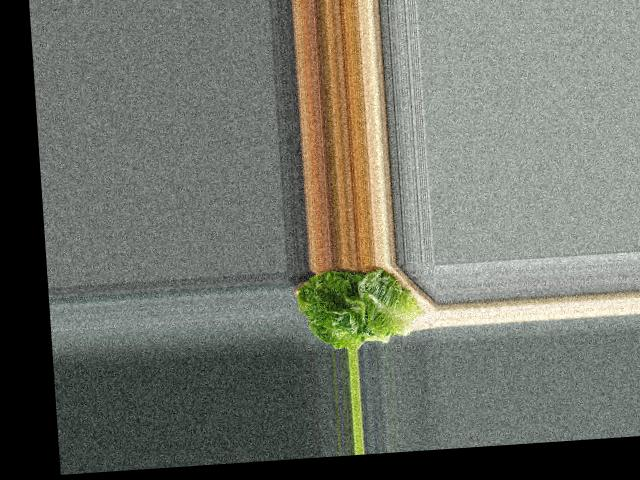lettuce: (291, 261, 421, 352)
